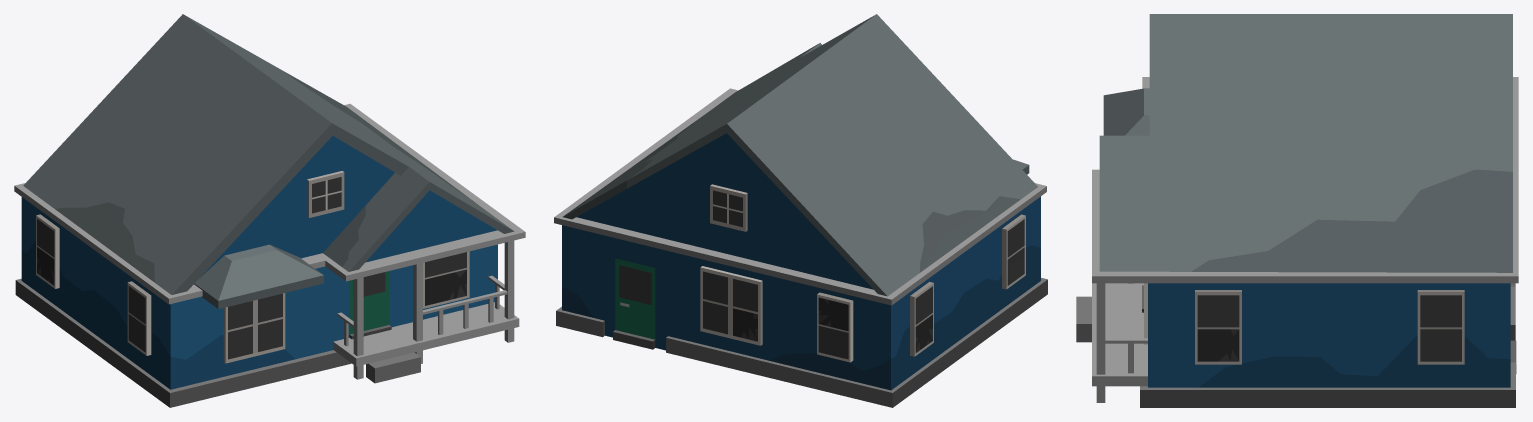
The model's file is SA_Bld_HouseMedium_Damaged_03.gltf.
3 views of the same model, side by side, from view 1: azimuth 30°, elevation 25°; view 2: azimuth 150°, elevation 25°; view 3: azimuth 270°, elevation 25° (orthographic). The views are drawn at different scales.
Visible parts, largest first — view 1: SA_Bld_HouseMedium_Damaged_03; view 2: SA_Bld_HouseMedium_Damaged_03; view 3: SA_Bld_HouseMedium_Damaged_03.
Part boxes in pixels (box(x1,y1,x2,y2)): SA_Bld_HouseMedium_Damaged_03: box(14, 14, 525, 407); SA_Bld_HouseMedium_Damaged_03: box(554, 14, 1047, 407); SA_Bld_HouseMedium_Damaged_03: box(1076, 14, 1518, 407).
Bounding box in the file's own units: 15.86 × 10.87 × 14.83.
1 material, 1 textured.
